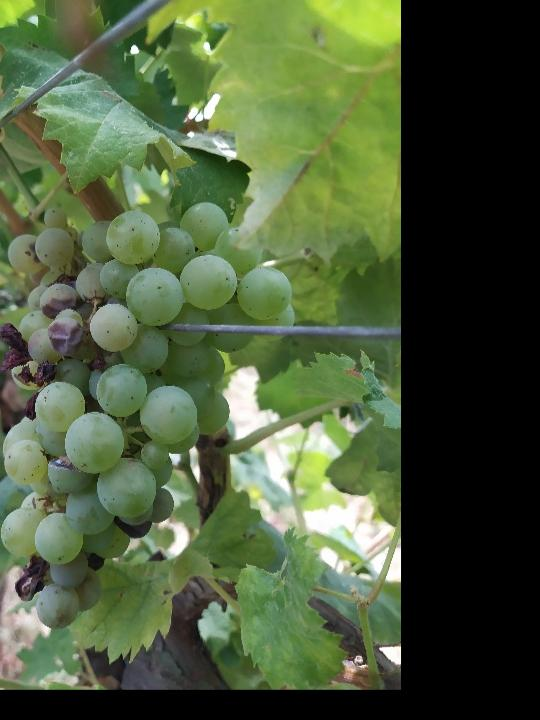grape: (0, 199, 299, 632)
